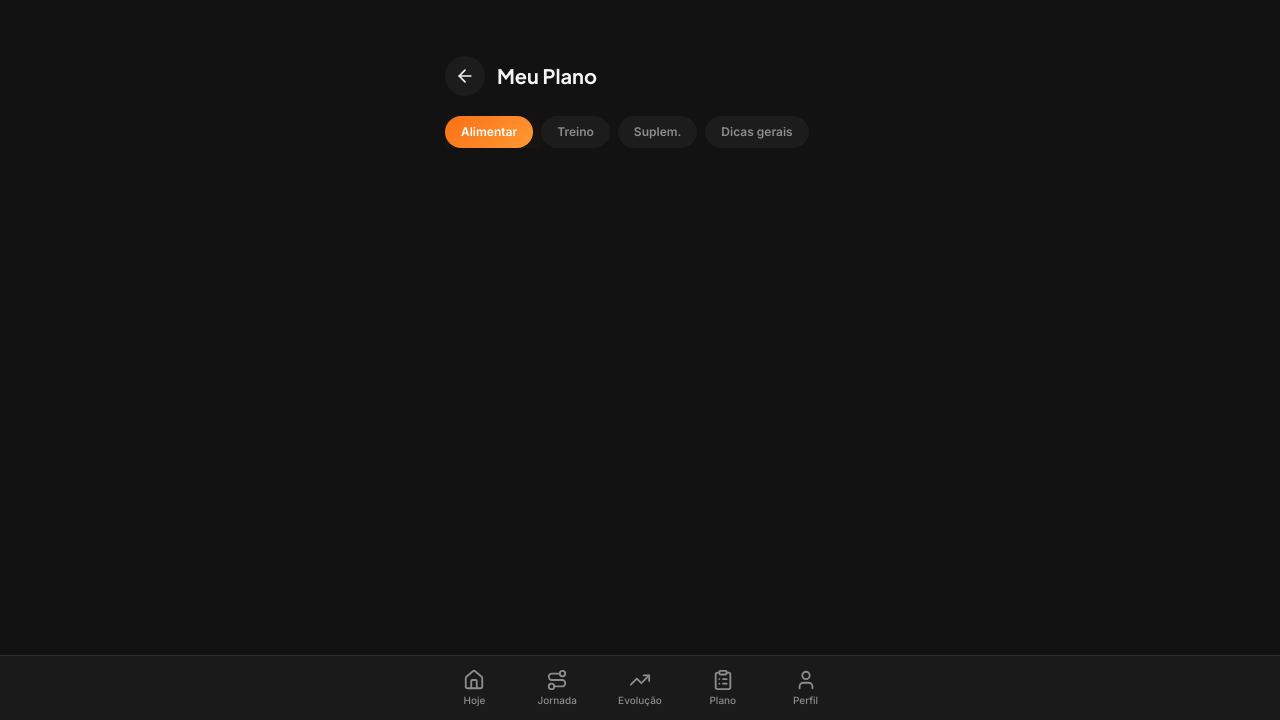
Test: Meu Plano / aba Treino (WP-APP-4 item 6) › sem ficha publicada: estado vazio, sem card e sem 'Abrir meu treino'
The width and height of the screenshot is (1280, 720).
Click the button "Treino". click: (576,132)
box: [541,116,610,148]
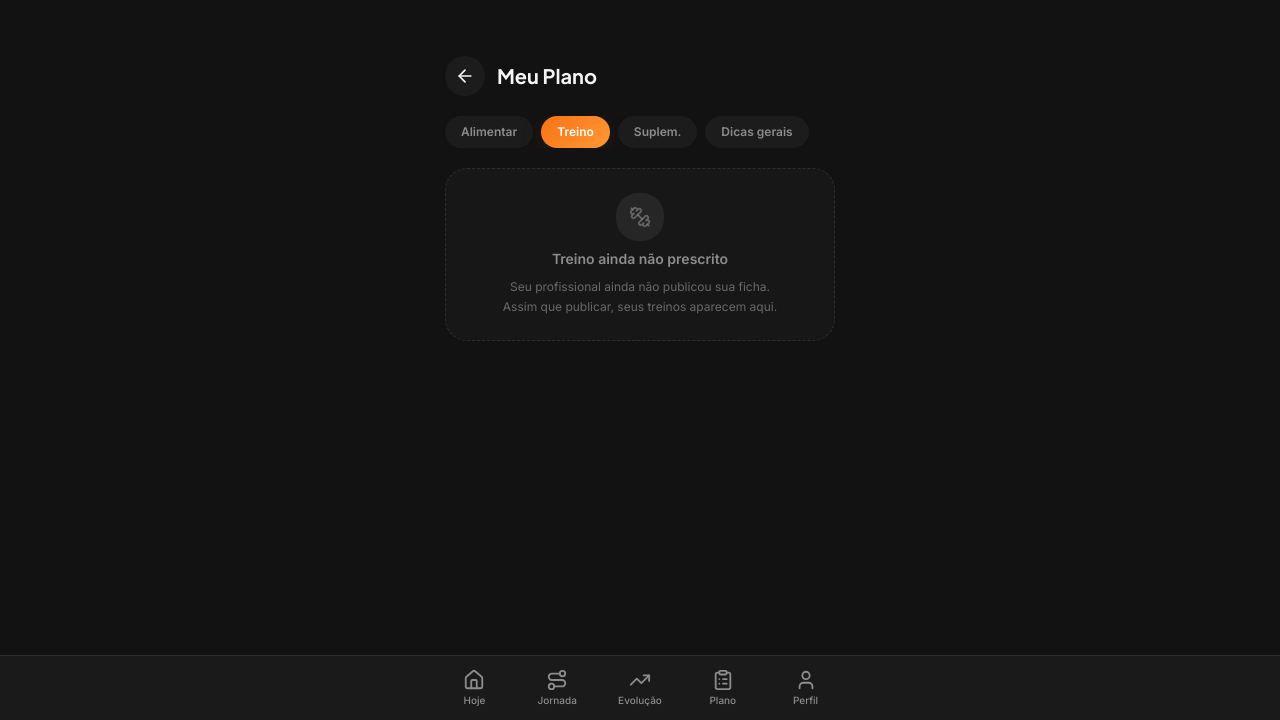
Expected: the text "Treino ainda não prescrito" is shown, [552,249,728,269]
